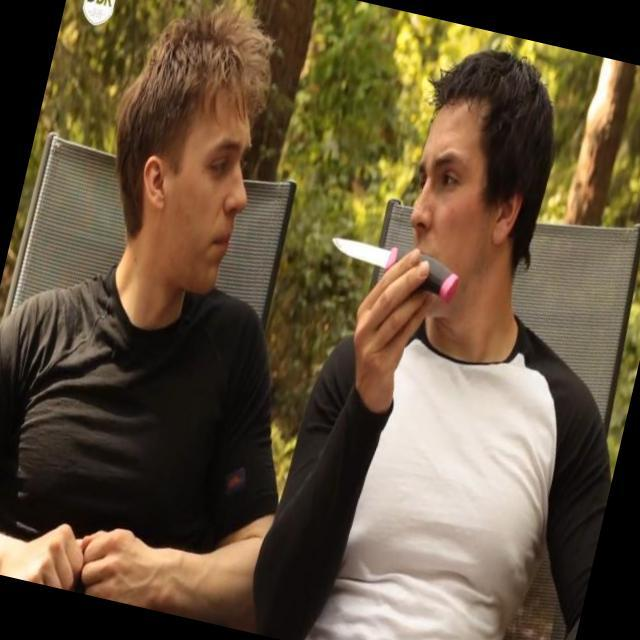Knife: (315, 216, 476, 323)
